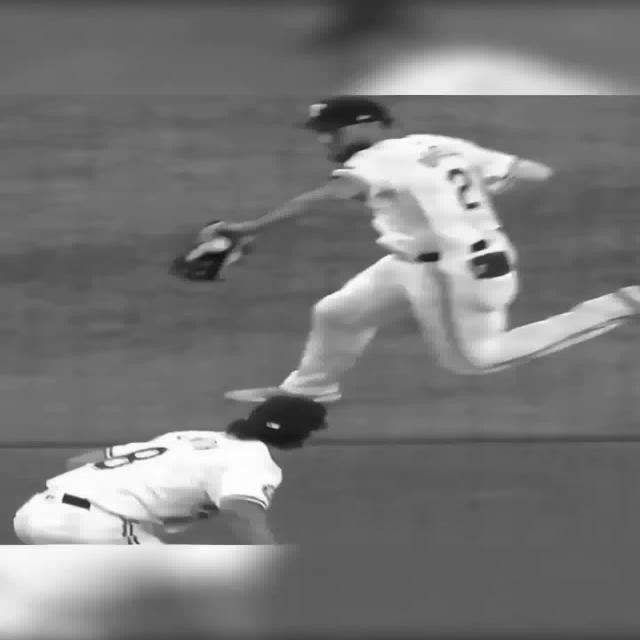baseball: (203, 241, 232, 251)
baseball_glove: (170, 219, 252, 282)
shoe: (222, 385, 342, 403)
